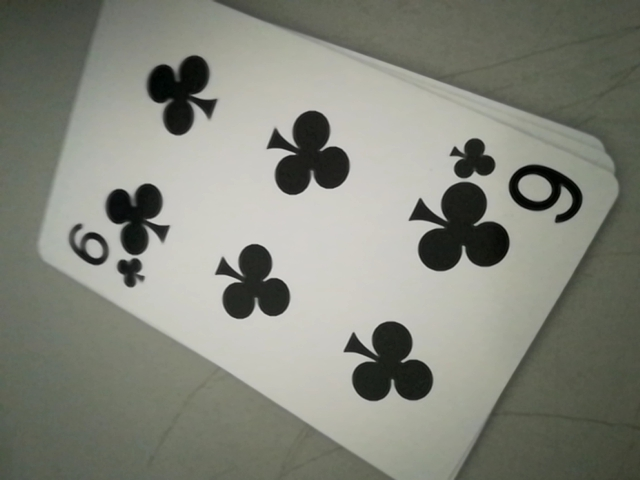mh 6: (439, 137, 589, 215), (63, 224, 153, 290)
